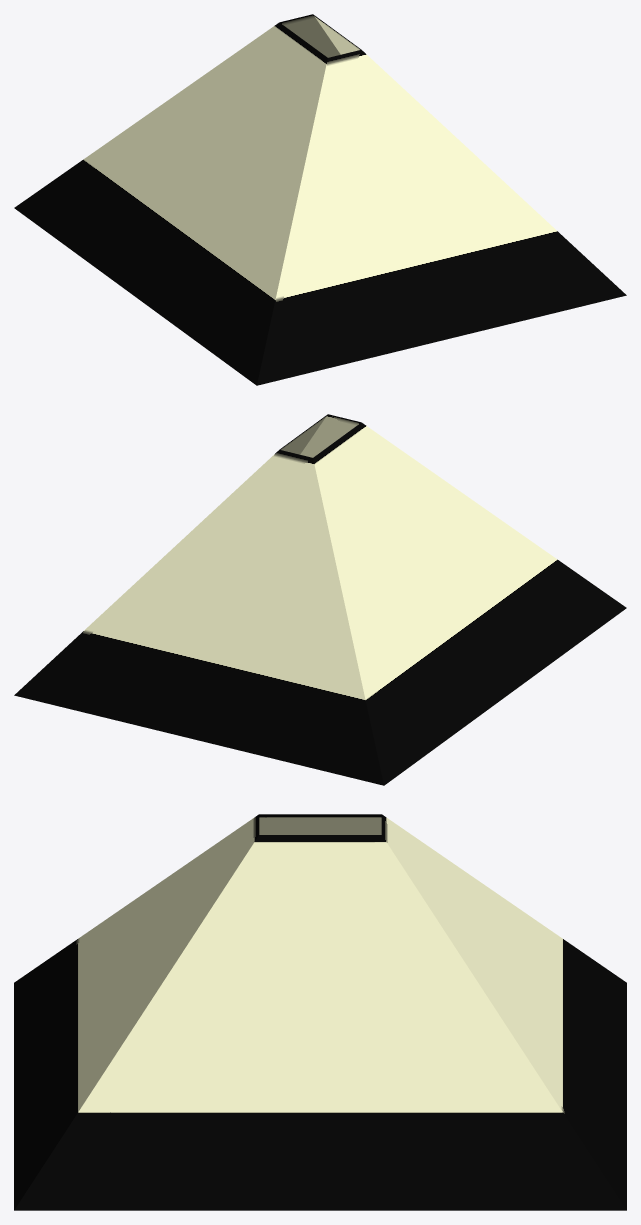
The model's file is ceiling_lamp_2_fake_light_2.obj.
3 views of the same model, one above another, from view 1: azimuth 30°, elevation 25°; view 2: azimuth 150°, elevation 25°; view 3: azimuth 270°, elevation 25° (orthographic). The views are drawn at different scales.
Visible parts, largest first — view 1: ceiling_lamp_2_fake_light_2; view 2: ceiling_lamp_2_fake_light_2; view 3: ceiling_lamp_2_fake_light_2.
Boxes of the visible parts, left/top/right/bottom form: ceiling_lamp_2_fake_light_2: left=14, top=14, right=626, bottom=385; ceiling_lamp_2_fake_light_2: left=14, top=414, right=626, bottom=785; ceiling_lamp_2_fake_light_2: left=14, top=814, right=626, bottom=1210.
Size of the model in its own units: 4.4 by 2.45 by 5.
